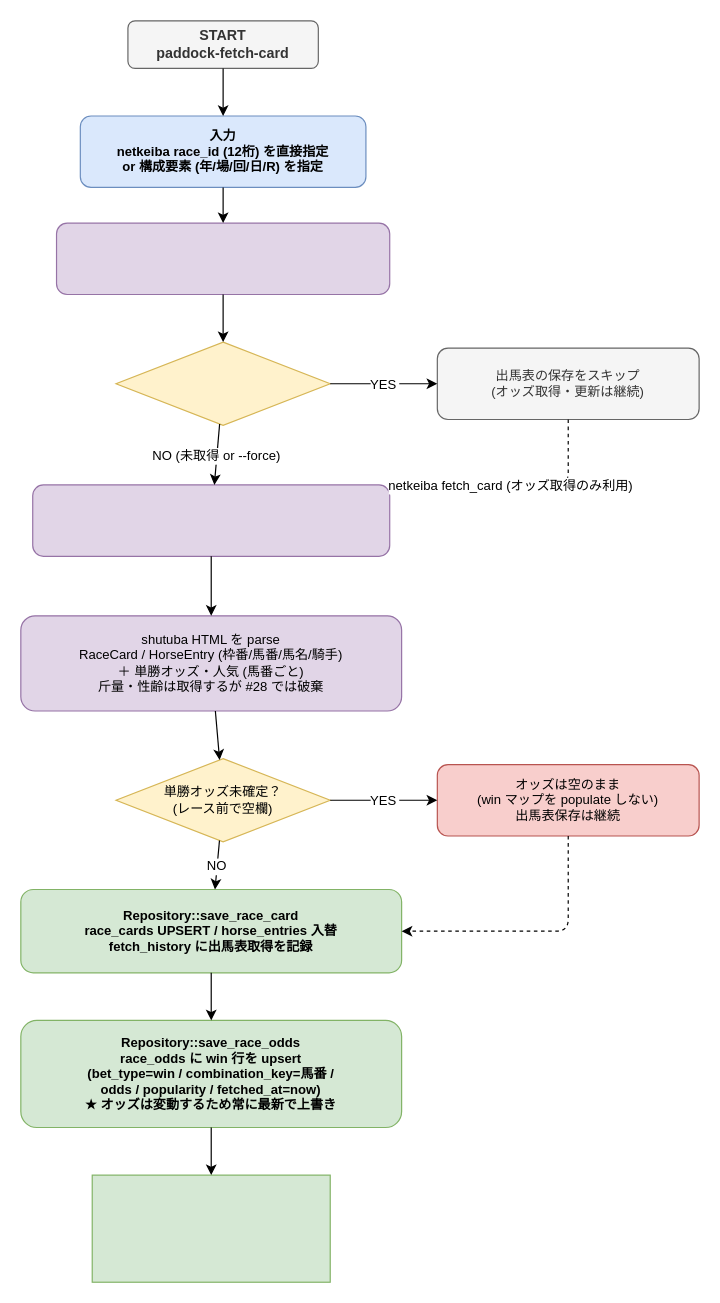
This 720x1303 diagram has some shape labels left out. Here are the shapes that lost their labels. From the top down, the box of each, then its label:
(55, 222, 390, 295): race_id 構築ヘルパ YYYY + 場2桁 + 回2桁 + 日2桁 + R2桁 → netkeiba 12桁 / paddock RaceId を導出
(115, 341, 330, 425): 出馬表は取得済み？ fetch_history_contains
(32, 484, 390, 556): NetkeibaScraper::fetch_card race/shutuba.html を GET (ureq) EUC-JP → UTF-8 デコード
(91, 1174, 330, 1282): Postgres race_cards / horse_entries / race_odds / fetch_history
